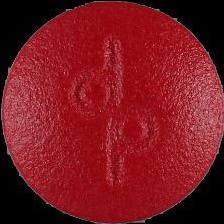54868-4879: (0, 0, 224, 224)
